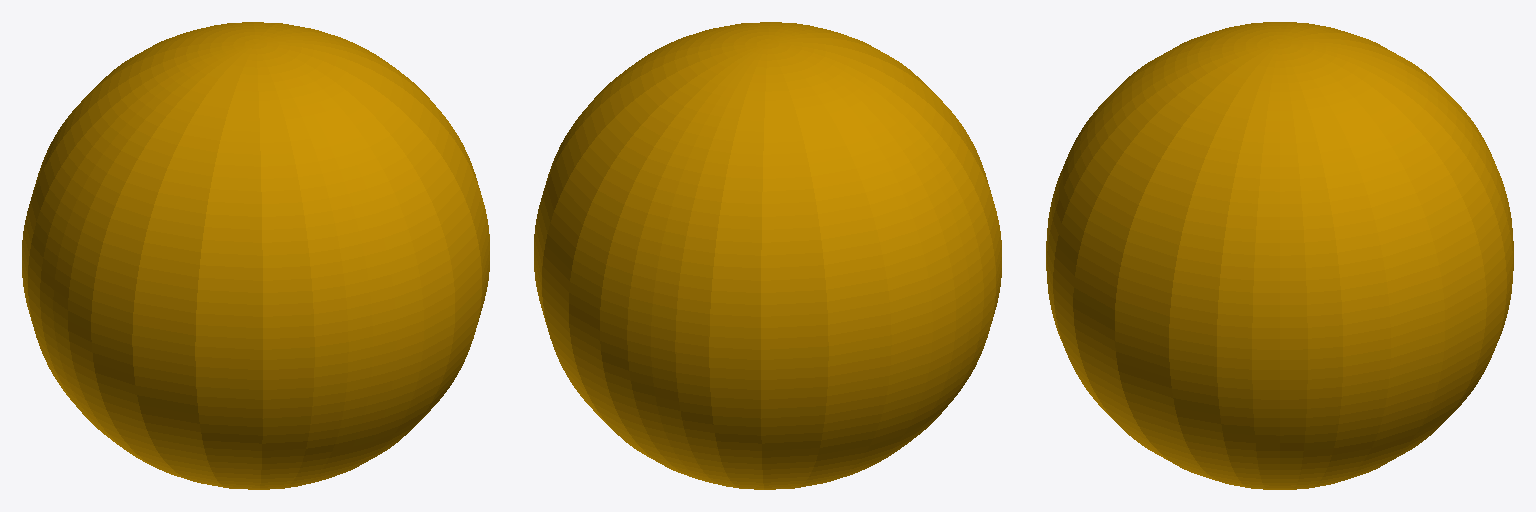
The model's file is pacman.obj.
The picture shows the model from 3 angles: view 1: azimuth 30°, elevation 25°; view 2: azimuth 150°, elevation 25°; view 3: azimuth 270°, elevation 25°; orthographic projection.
Visible parts, largest first — view 1: SphèreSurf; view 2: SphèreSurf; view 3: SphèreSurf.
Part boxes in pixels (x1,y1,x2,y2): SphèreSurf: (22,22,489,489); SphèreSurf: (534,22,1001,489); SphèreSurf: (1046,22,1513,489).
Bounding box in the file's own units: 4 × 4 × 4.